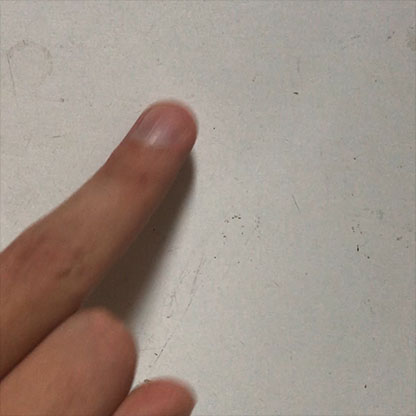fingertip: (116, 92, 207, 160)
